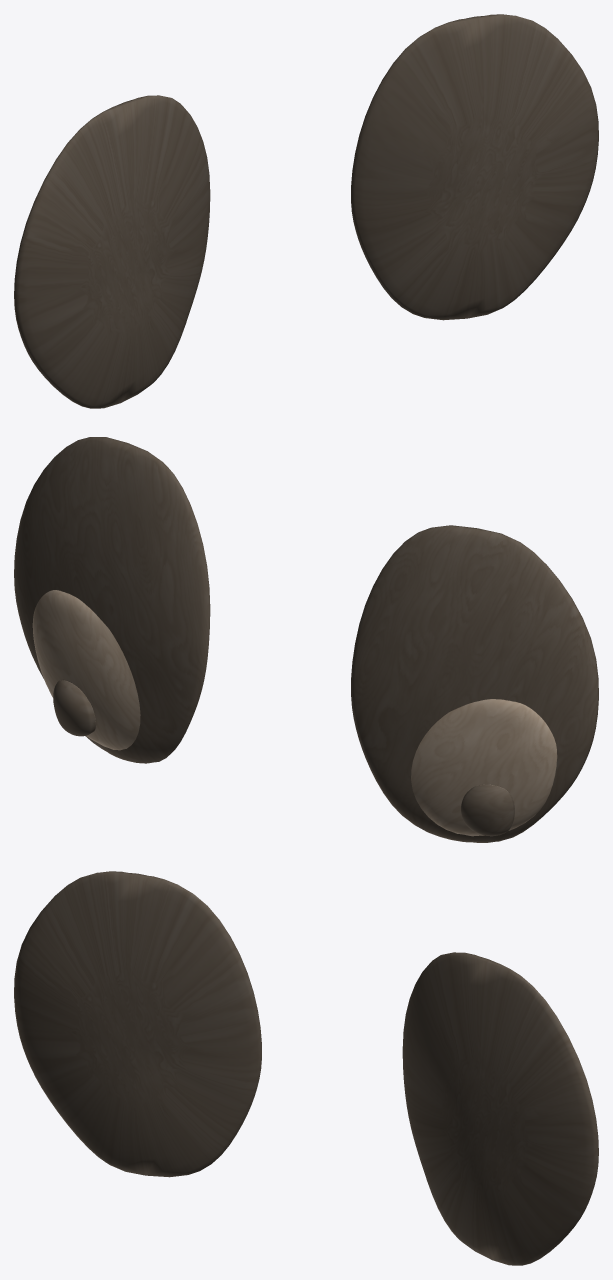
File: oeuil_chevre_LOW.fbx
The picture shows the model from 3 angles, top to bottom: view 1: azimuth 30°, elevation 25°; view 2: azimuth 150°, elevation 25°; view 3: azimuth 330°, elevation 25°; orthographic projection.
Parts seen in each view (by area): view 1: oeuil chevre LOW; view 2: oeuil chevre LOW; view 3: oeuil chevre LOW.
Boxes of the visible parts, <box> form: oeuil chevre LOW: <box>14,14,598,408</box>; oeuil chevre LOW: <box>14,437,598,842</box>; oeuil chevre LOW: <box>14,871,598,1265</box>.
Size of the model in its own units: 44.44 by 22.29 by 5.31.
1 material, 1 textured.
